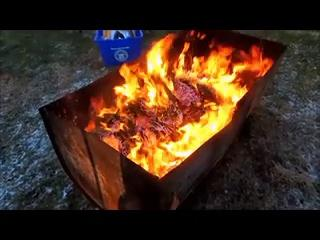fire: (93, 31, 262, 182)
